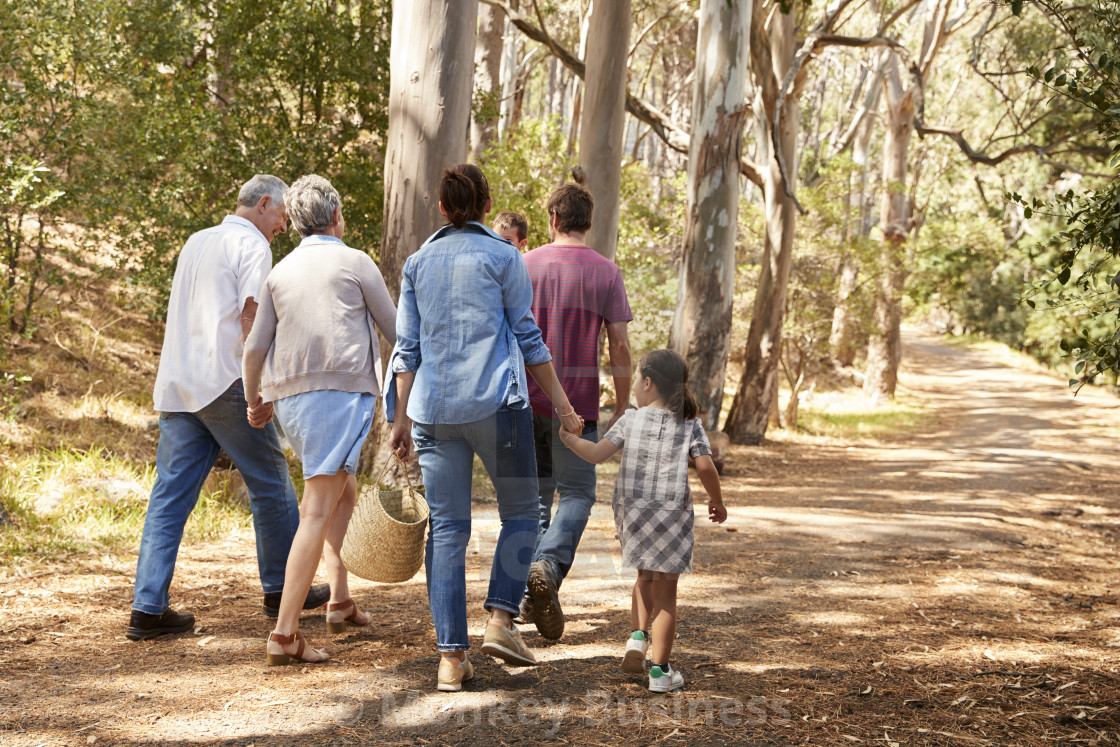Person: (373, 153, 575, 691), (123, 155, 335, 659), (225, 169, 401, 659), (549, 343, 743, 701), (505, 173, 633, 651)
